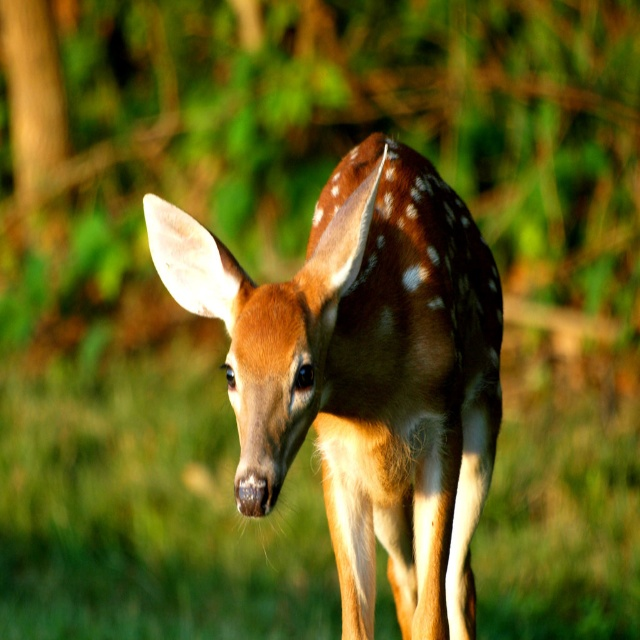Deer: (142, 127, 504, 639)
